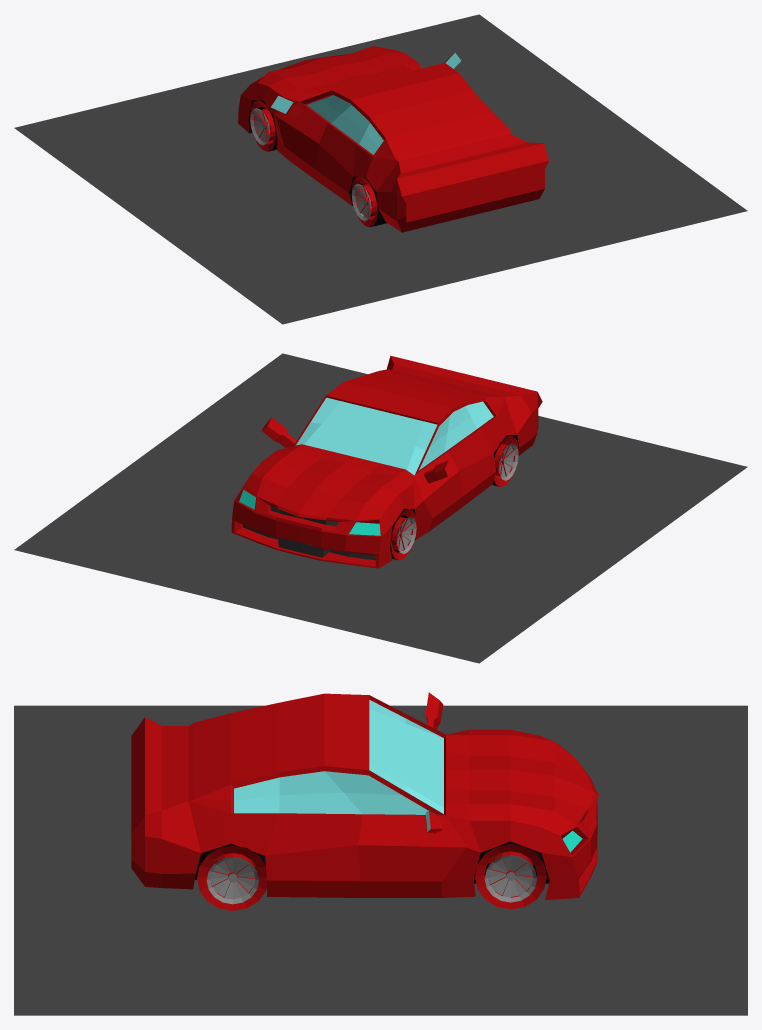
File: Punainen Auto.fbx
3 renders of one model, top to bottom at view 1: azimuth 30°, elevation 25°; view 2: azimuth 150°, elevation 25°; view 3: azimuth 270°, elevation 25°, orthographic. The views are drawn at different scales.
Visible parts, largest first — view 1: Plane, Cube; view 2: Plane, Cube; view 3: Plane, Cube.
Boxes of the visible parts, x1,y1,x2,y2 form: Plane: (14, 14, 747, 324); Cube: (238, 46, 548, 232); Plane: (14, 353, 747, 663); Cube: (231, 355, 542, 568); Plane: (14, 705, 747, 1015); Cube: (131, 692, 599, 910).
Size of the model in its own units: 690 by 138 by 690.
